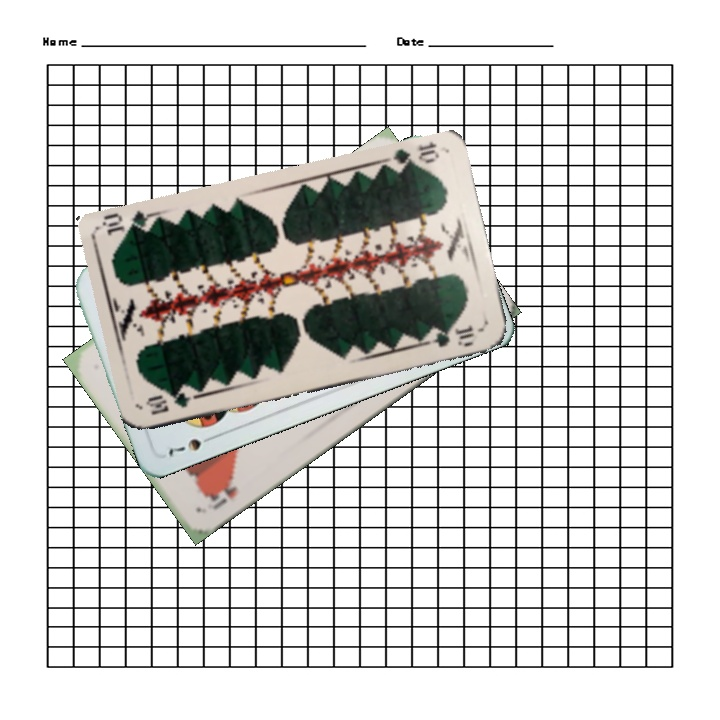G10: (383, 139, 442, 175), (142, 384, 202, 418)
HO: (201, 482, 240, 512)
S7: (164, 431, 218, 460)
